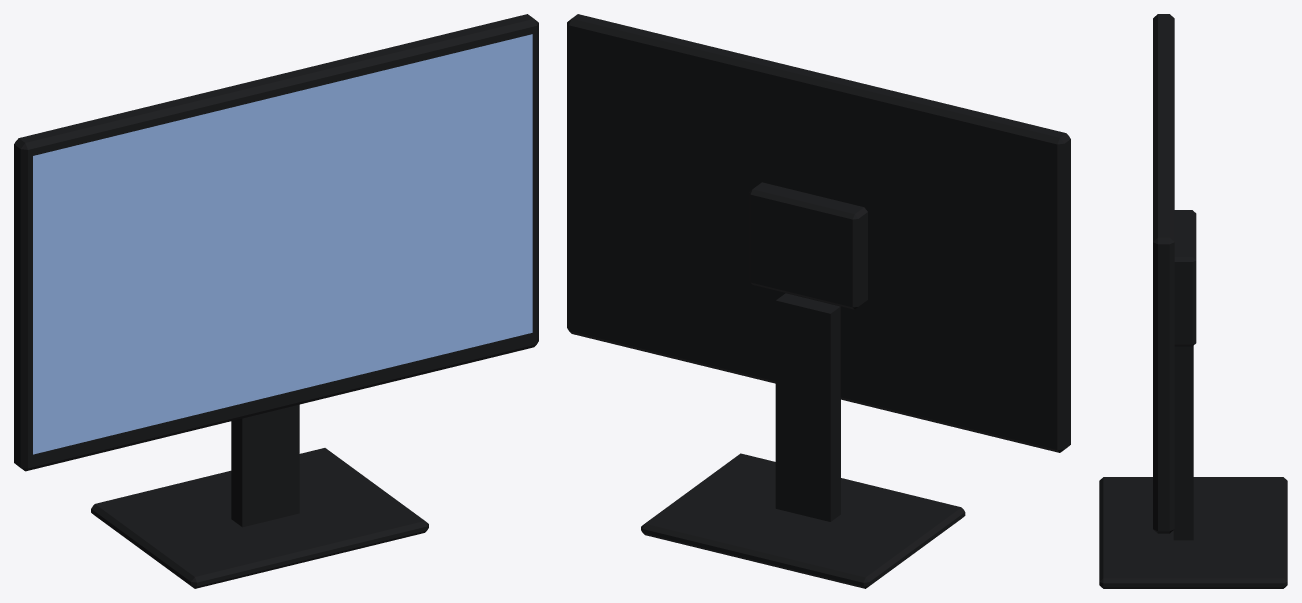
The model's file is monitor.glb.
3 views of the same model, side by side, from view 1: azimuth 30°, elevation 25°; view 2: azimuth 150°, elevation 25°; view 3: azimuth 270°, elevation 25° (orthographic). The views are drawn at different scales.
Parts seen in each view (by area): view 1: monitor; view 2: monitor; view 3: monitor.
Boxes of the visible parts, x1=… form: monitor: x1=14, y1=14, x2=538, y2=588; monitor: x1=567, y1=14, x2=1070, y2=588; monitor: x1=1099, y1=14, x2=1287, y2=588.
Bounding box in the file's own units: 0.545 × 0.46 × 0.19.
